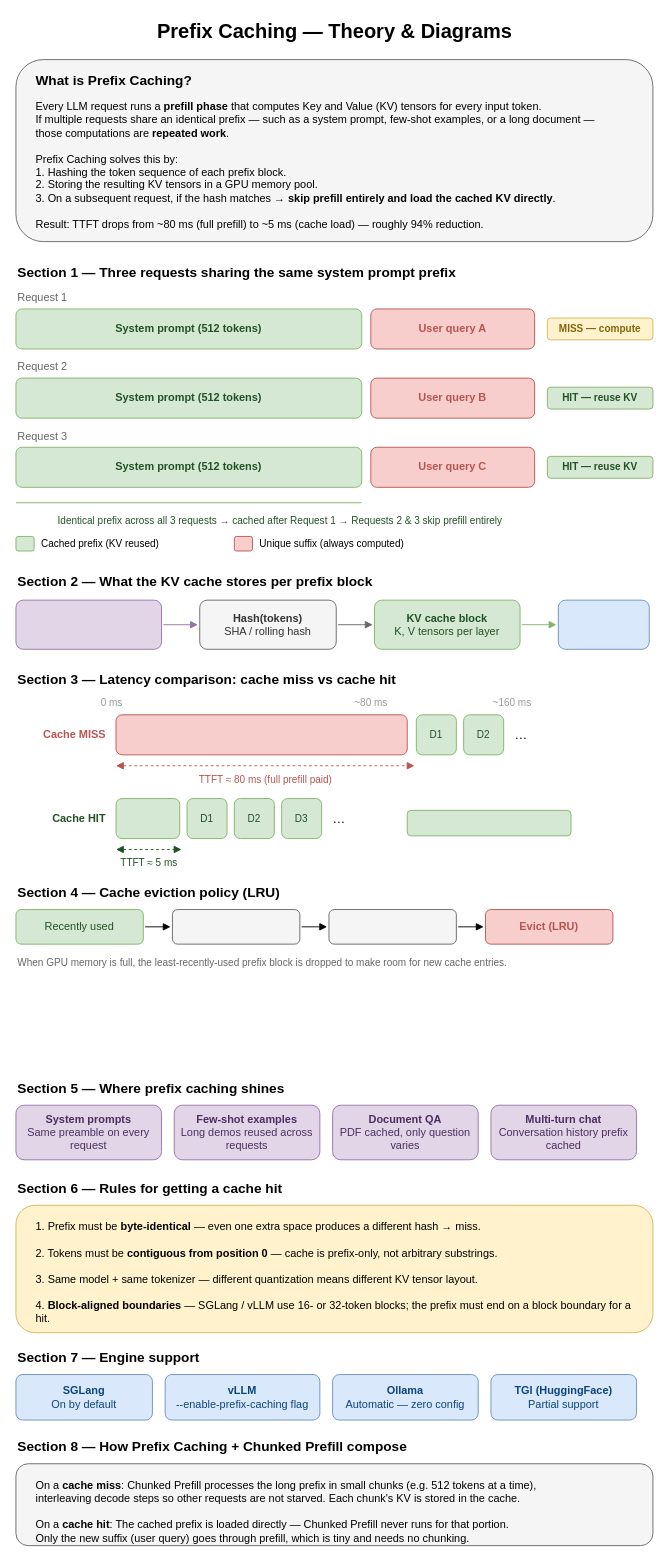
Some shapes in this 669 by 1562 pixel diagram are drawn without their labels. The centre of each missing label's shape, as x and y in pixels:
Even older: (392,926)
GPU memory pool: (603,624)
Load KV ~5 ms: (147,818)
Older: (236,926)
Prefill — 512 tokens (~80 ms): (261,734)
Token sequence e.g. tok[0..511]: (88,624)
~94% TTFT reduction: (488,822)
